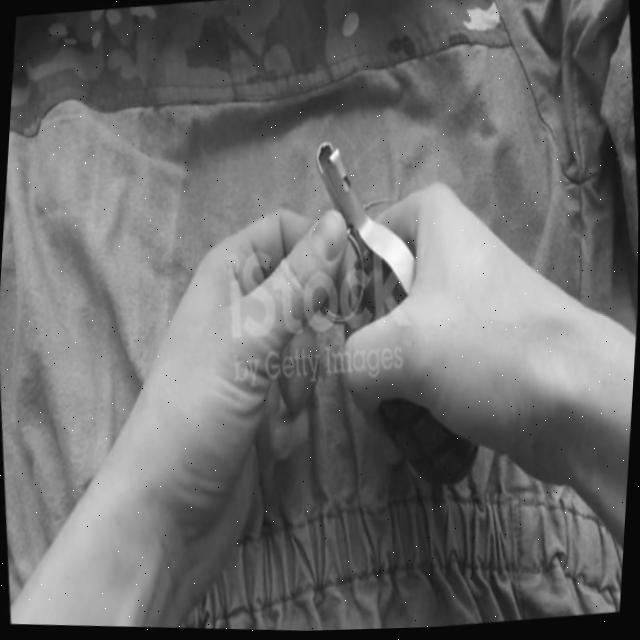grenade: (299, 116, 503, 499)
